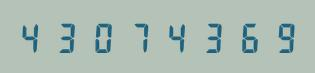four: (17, 20, 51, 53), (157, 20, 191, 53)
nine: (262, 20, 296, 53)
seven: (122, 20, 156, 53)
six: (227, 20, 261, 53)
three: (52, 20, 86, 53), (192, 20, 226, 53)
zero: (87, 20, 121, 53)
